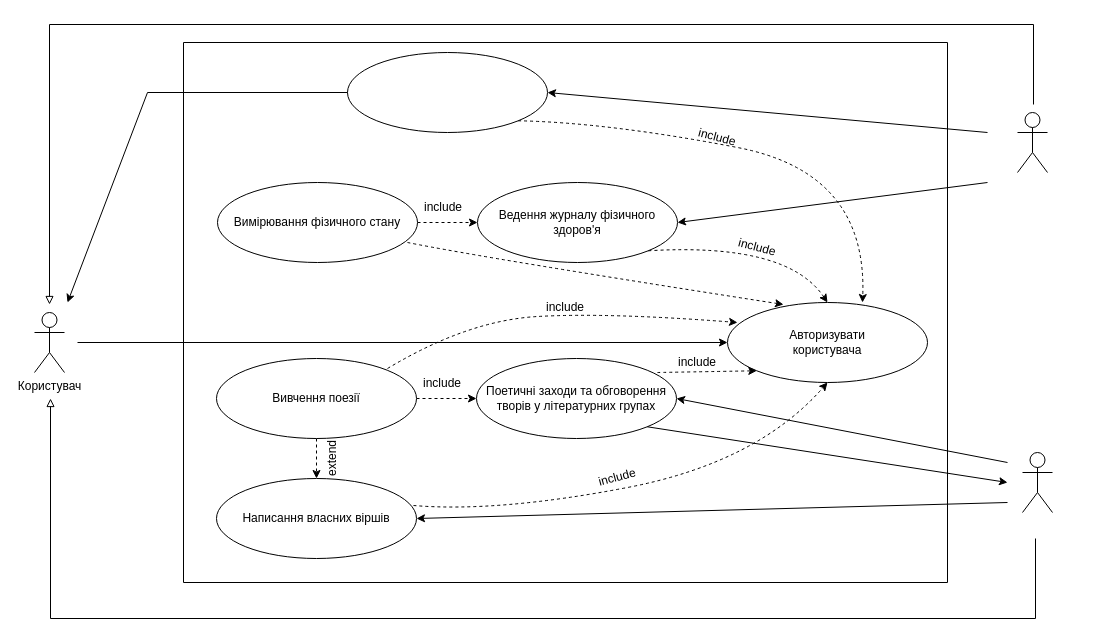
Image size: 1116x644. Some labels were removed from this diagram. The centre of each missing label's shape, as x and y in pixels:
Літературна спільнота: point 1037,482
Наглядач за станом здоров'я: point 1032,142
Поради щодо здоров'я: point 447,92
